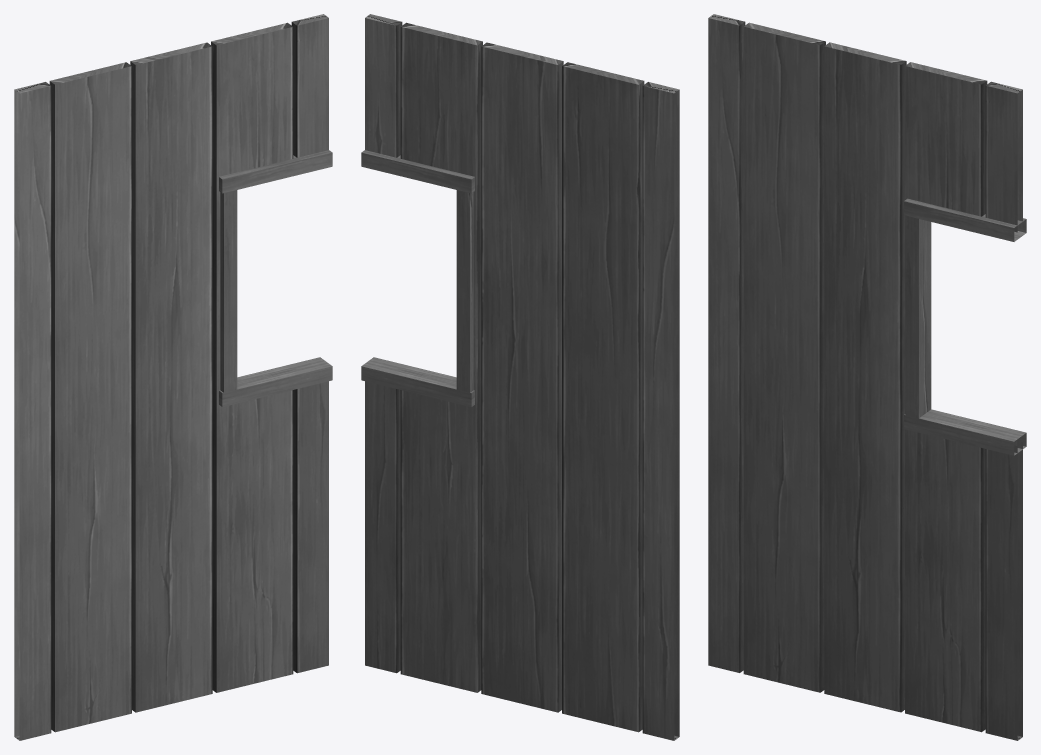
The model's file is WallPlankWindowed01.fbx.
The picture shows the model from 3 angles, left to right: view 1: azimuth 30°, elevation 25°; view 2: azimuth 150°, elevation 25°; view 3: azimuth 330°, elevation 25°; orthographic projection.
Parts seen in each view (by area): view 1: WallPlankWindowed01_LOD0; view 2: WallPlankWindowed01_LOD0; view 3: WallPlankWindowed01_LOD0.
Part boxes in pixels (bbox=[...]): WallPlankWindowed01_LOD0: bbox=[14, 14, 332, 740]; WallPlankWindowed01_LOD0: bbox=[361, 14, 679, 740]; WallPlankWindowed01_LOD0: bbox=[708, 14, 1026, 740].
Size of what is drawn, in the model's own units: 1 by 2 by 0.0698.
